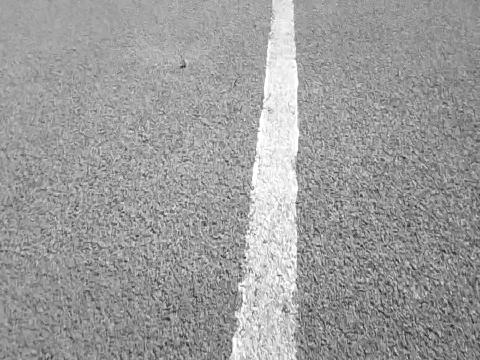Lines: (228, 0, 300, 360)
